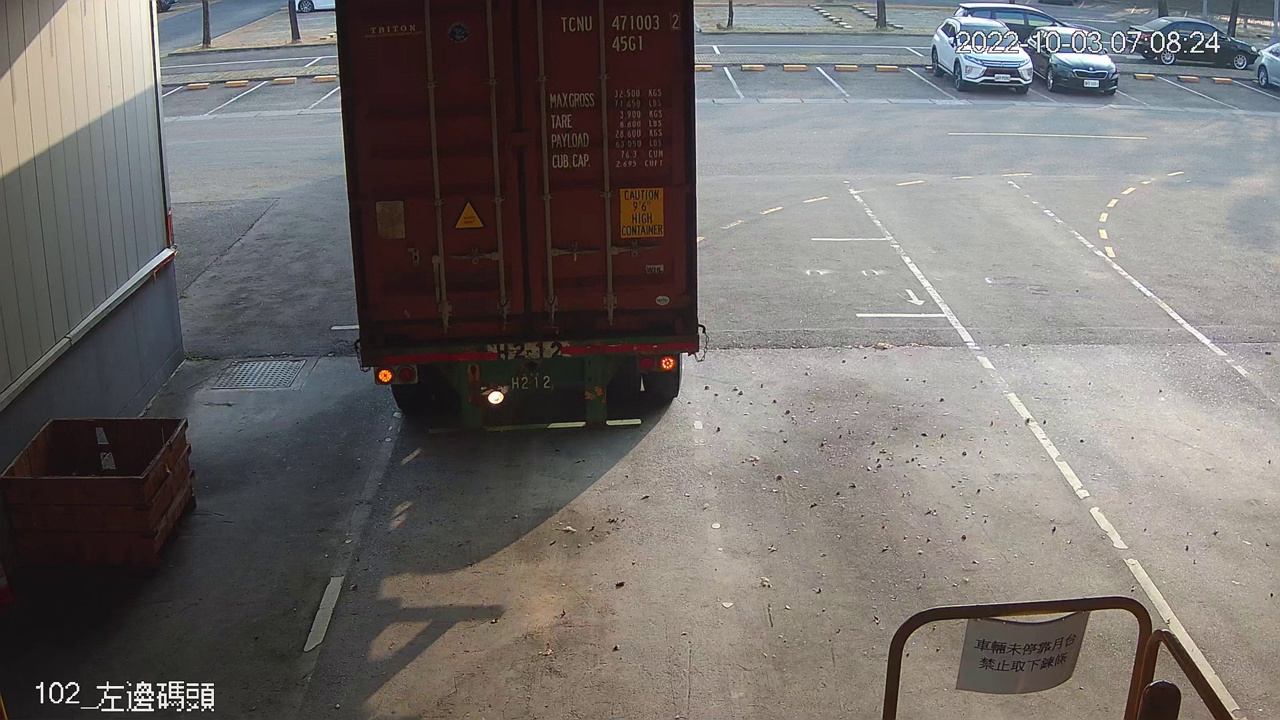container: (553, 7, 686, 57)
